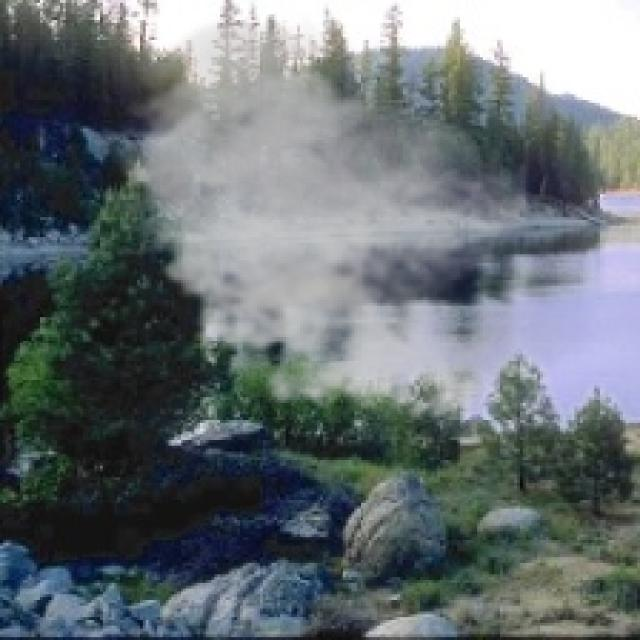smoke: (106, 12, 531, 434)
